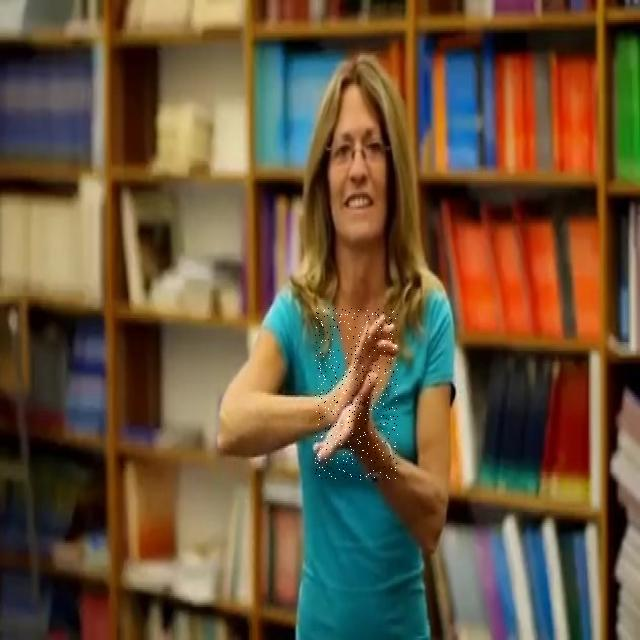cheese: (315, 308, 398, 480)
